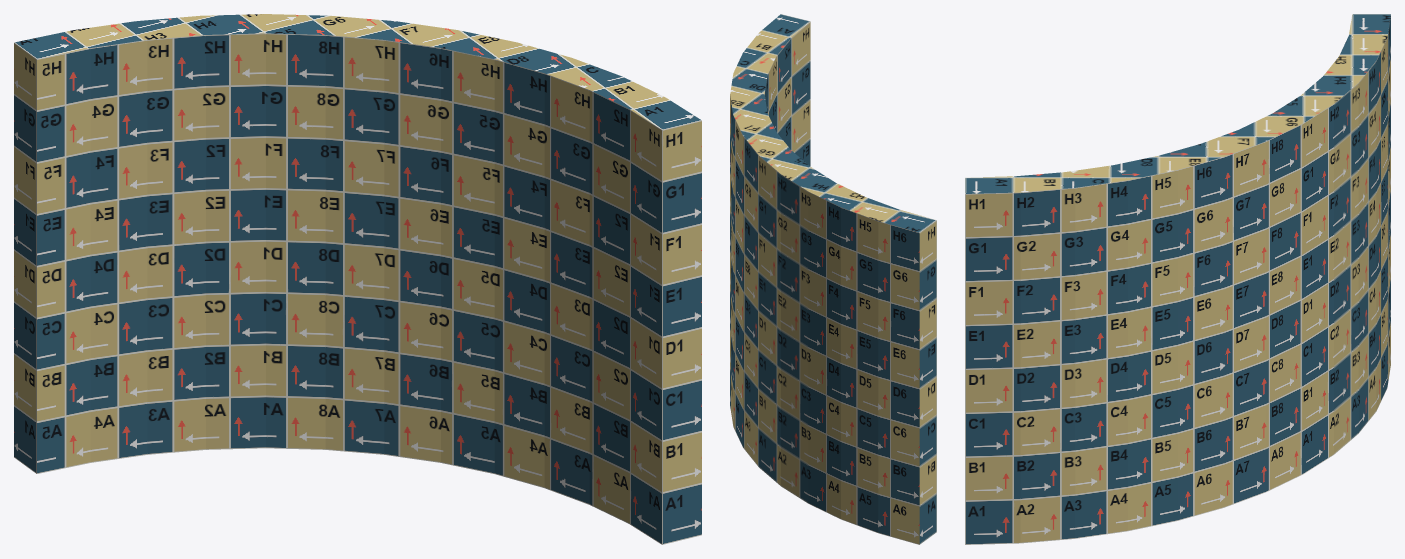
File: WALL_Curved90.fbx
3 renders of one model, left to right at view 1: azimuth 30°, elevation 25°; view 2: azimuth 150°, elevation 25°; view 3: azimuth 270°, elevation 25°, orthographic. The views are drawn at different scales.
Visible parts, largest first — view 1: WALL_Curved90; view 2: WALL_Curved90; view 3: WALL_Curved90.
Part boxes in pixels (box(x1,y1,x2,y2)): WALL_Curved90: box(14, 14, 701, 544); WALL_Curved90: box(730, 14, 936, 544); WALL_Curved90: box(965, 14, 1390, 544).
Size of the model in its own units: 220 by 200 by 220.
1 material, 1 textured.
